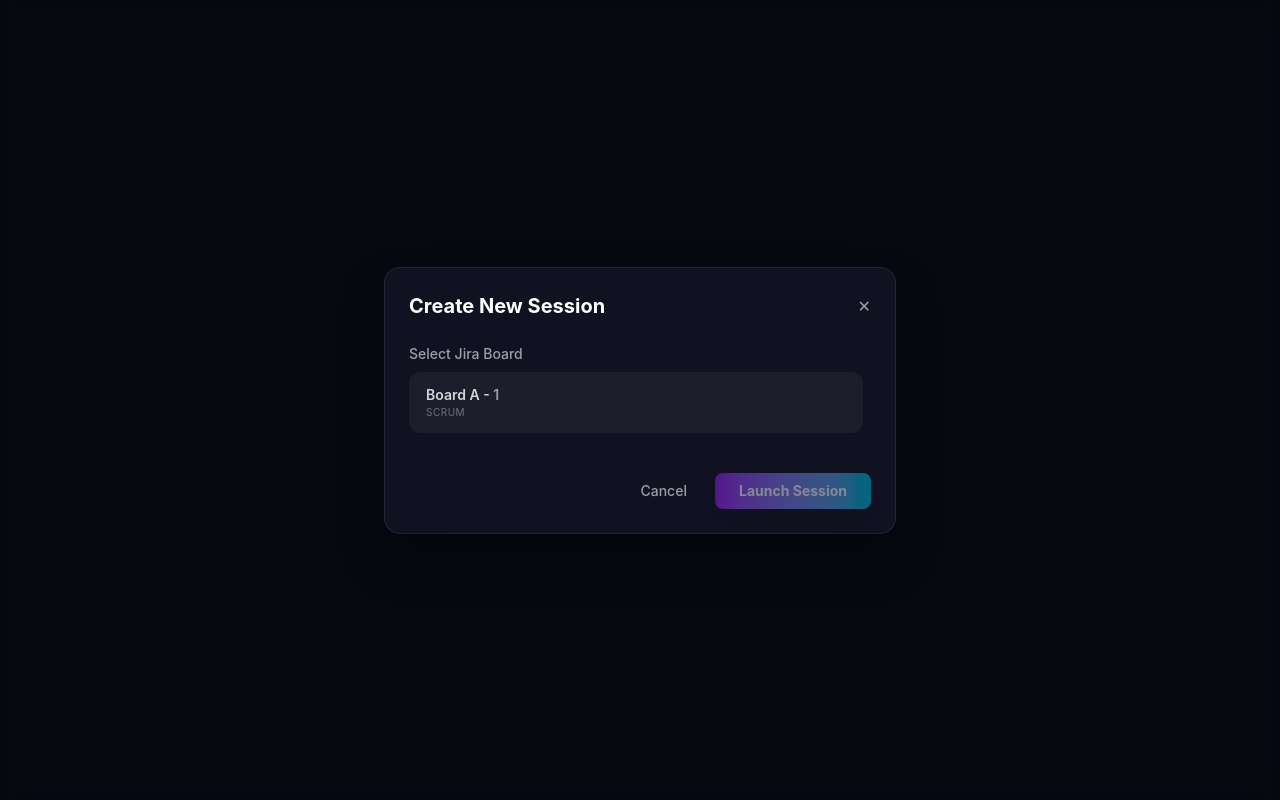
Scenario: CreateSessionModal › fetches sprints when board selected
The width and height of the screenshot is (1280, 800).
Click the text "Board A - 1": (463,394) top-left (426, 386), bottom-right (499, 402)
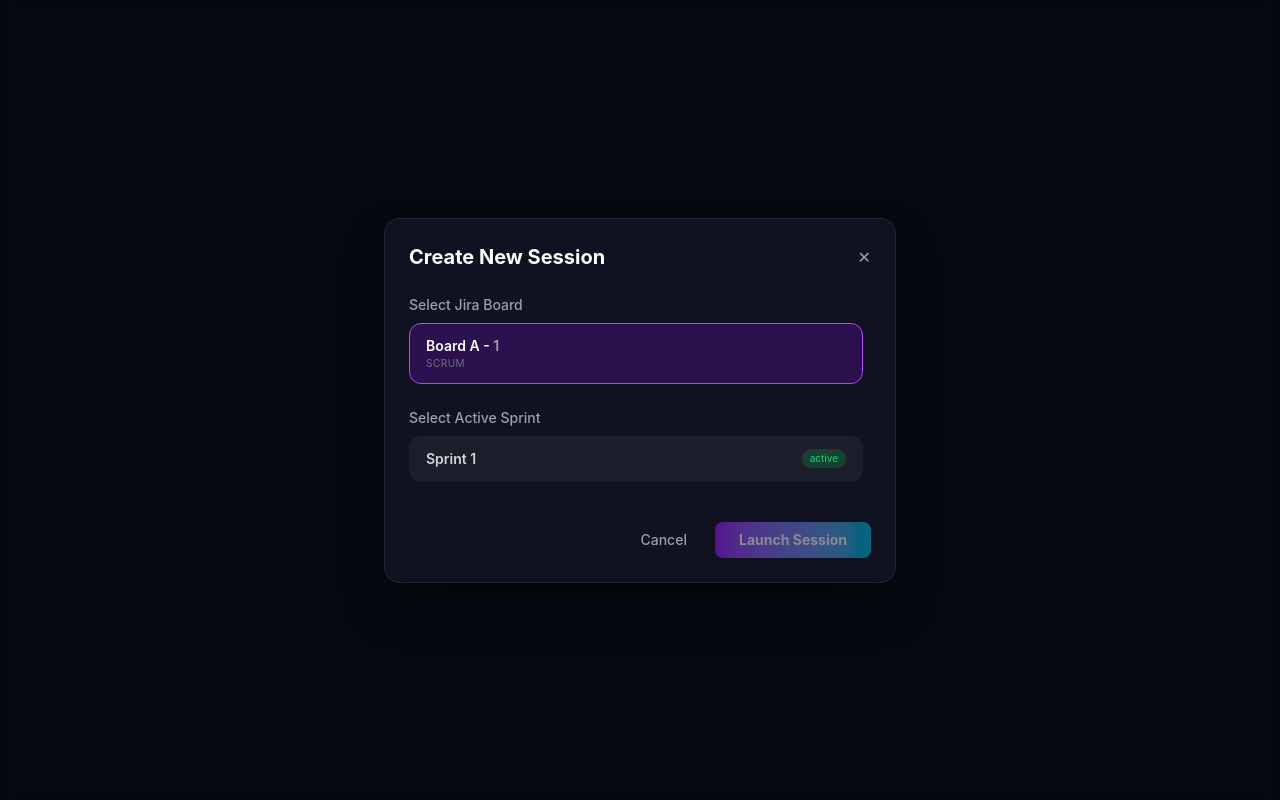
Result: the text "Sprint 1" is shown at top-left (426, 448), bottom-right (476, 468)
